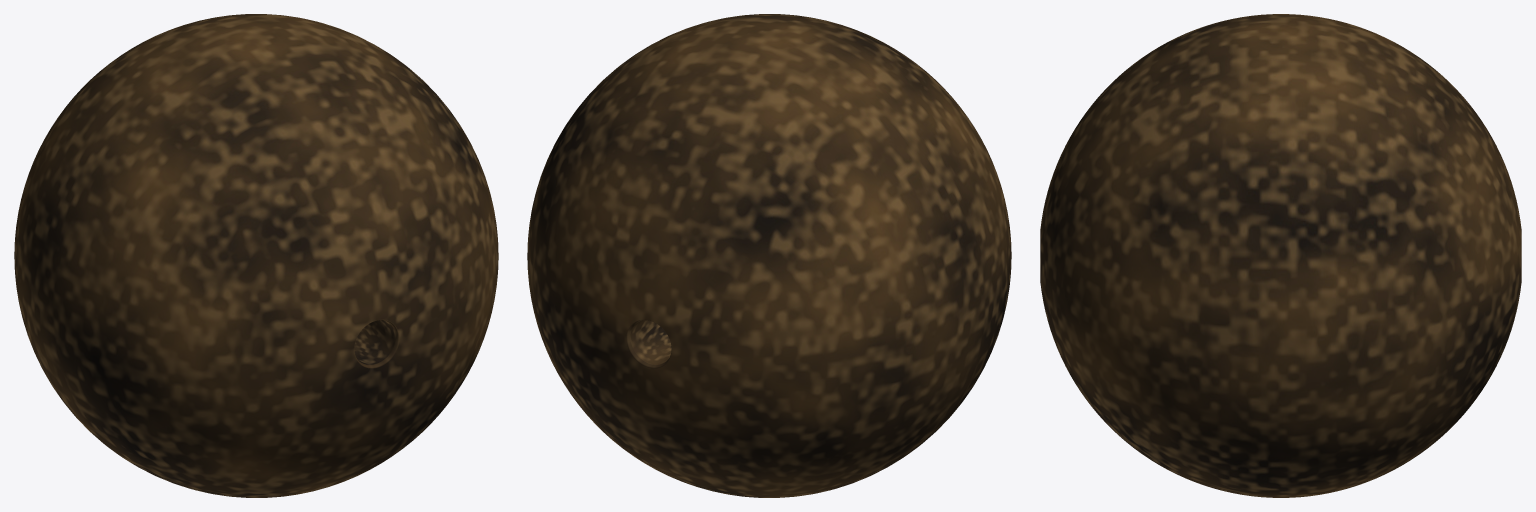
File: bronzite-10mm.glb
The picture shows the model from 3 angles, left to right: view 1: azimuth 30°, elevation 25°; view 2: azimuth 150°, elevation 25°; view 3: azimuth 270°, elevation 25°; orthographic projection.
Visible parts, largest first — view 1: bronzite.001; view 2: bronzite.001; view 3: bronzite.001.
Boxes of the visible parts, x1,y1,x2,y2 form: bronzite.001: [14, 14, 498, 497]; bronzite.001: [527, 14, 1011, 497]; bronzite.001: [1040, 14, 1521, 497].
Size of the model in its own units: 0.01 by 0.01 by 0.00994.
1 material, 1 textured.
